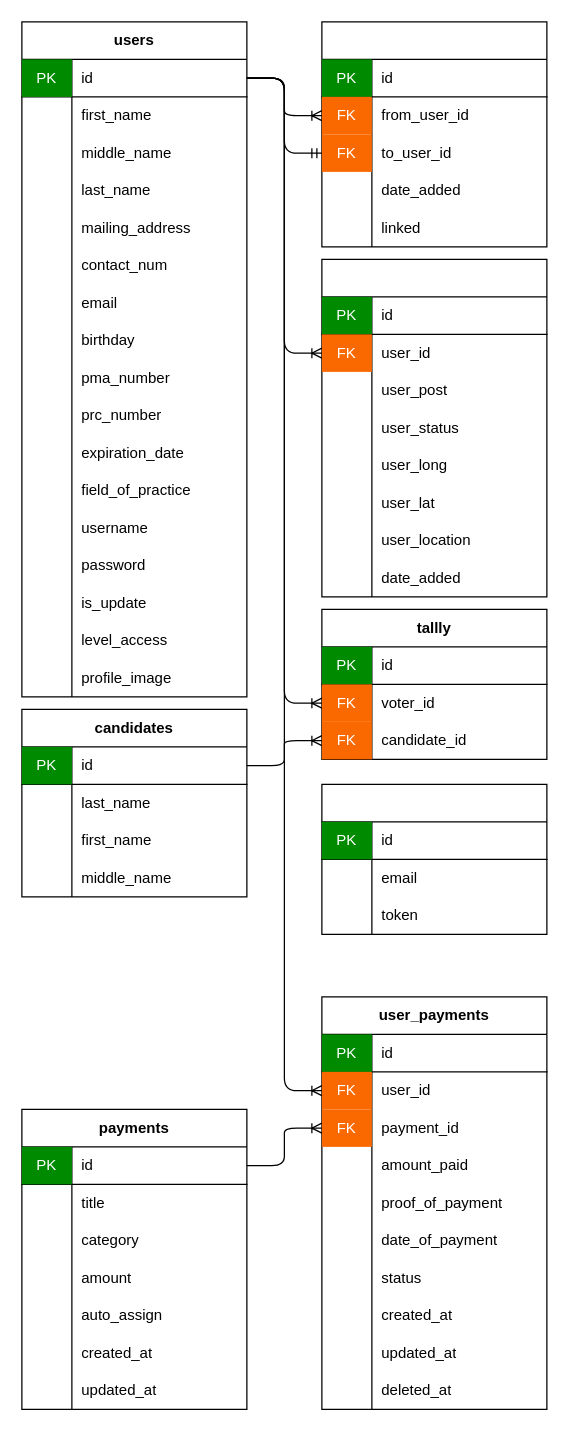
This 569x1431 diagram has some shape labels left out. Here are the shapes that lost their labels. From the top down, the box of each, then its label:
(321, 21, 547, 247): user_links
(321, 258, 547, 597): users_posts
(321, 783, 547, 934): password_reset
